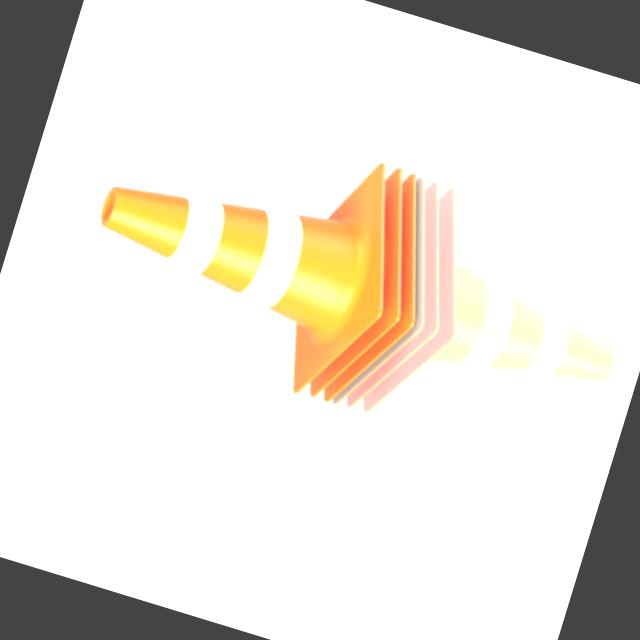cone: (41, 68, 490, 436)
